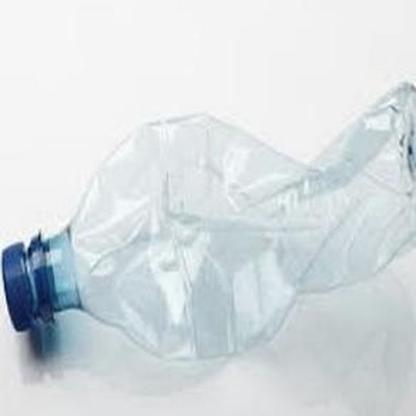plastic bottle: (1, 81, 416, 360)
